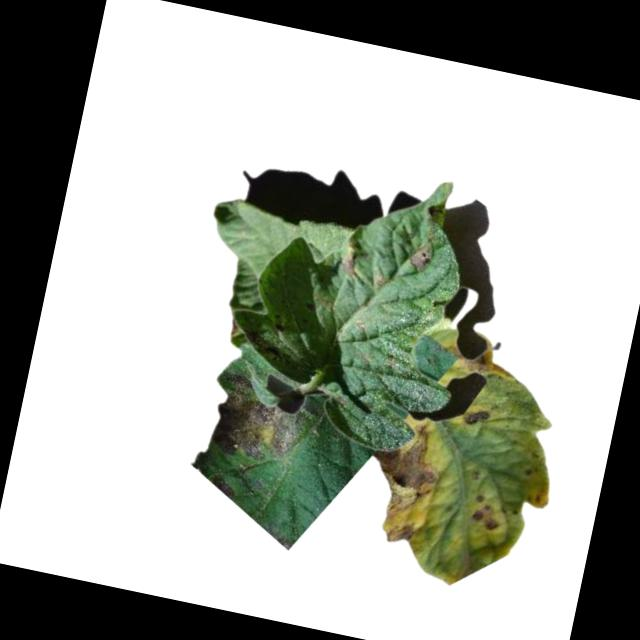Early_blight: (356, 416, 450, 549), (203, 372, 317, 467), (440, 338, 515, 379), (466, 491, 506, 533), (408, 240, 435, 275), (336, 243, 362, 276), (461, 405, 492, 430), (227, 315, 239, 335)
